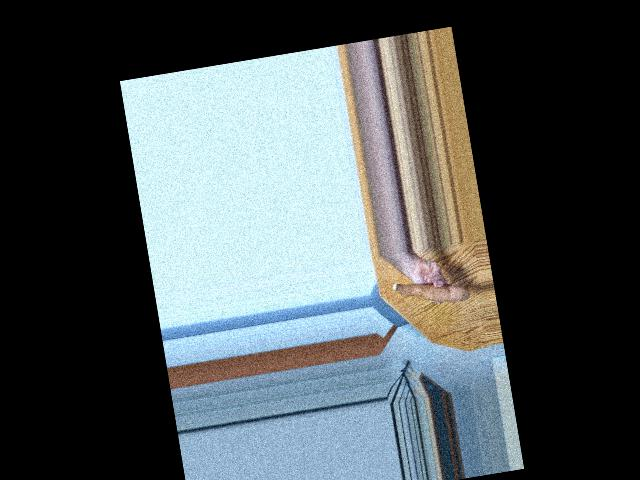sweet_potato: (393, 271, 467, 315)
